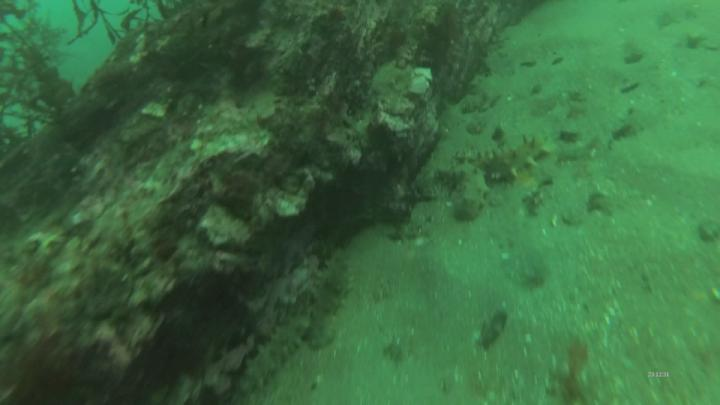holothurian: (239, 309, 311, 397), (306, 248, 355, 352), (459, 135, 555, 188), (437, 160, 493, 225)
waterweeds: (1, 1, 80, 204)
